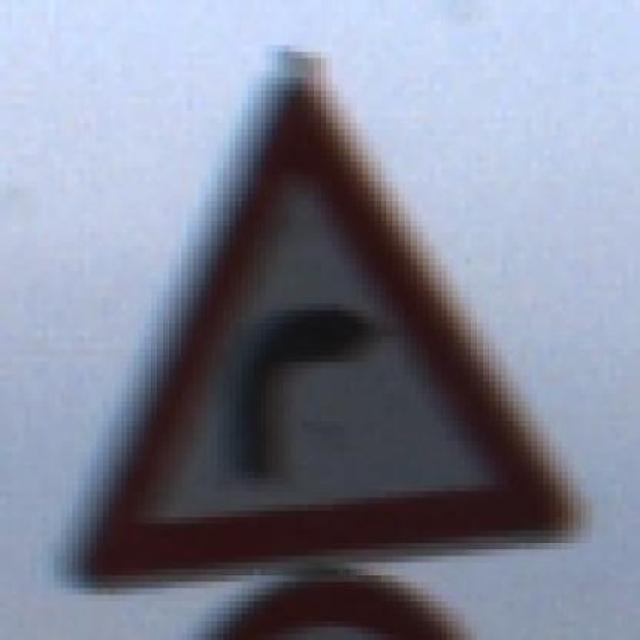Dangerous Rright Curve Ahead: (48, 64, 598, 596)
